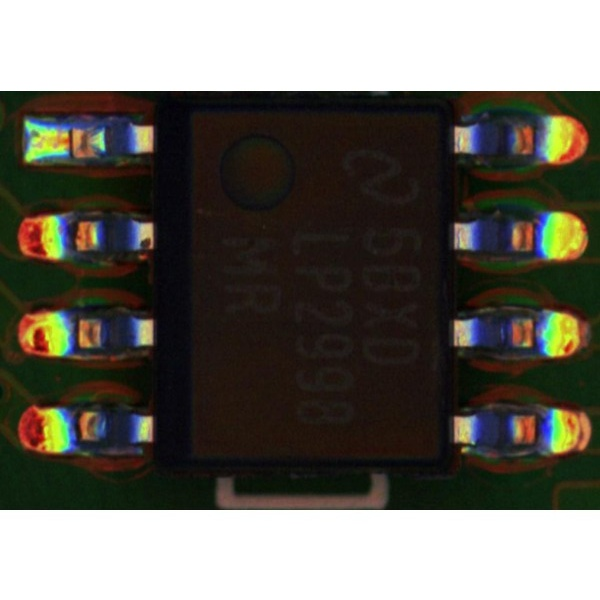Bad_podu: (55, 128, 81, 152)
